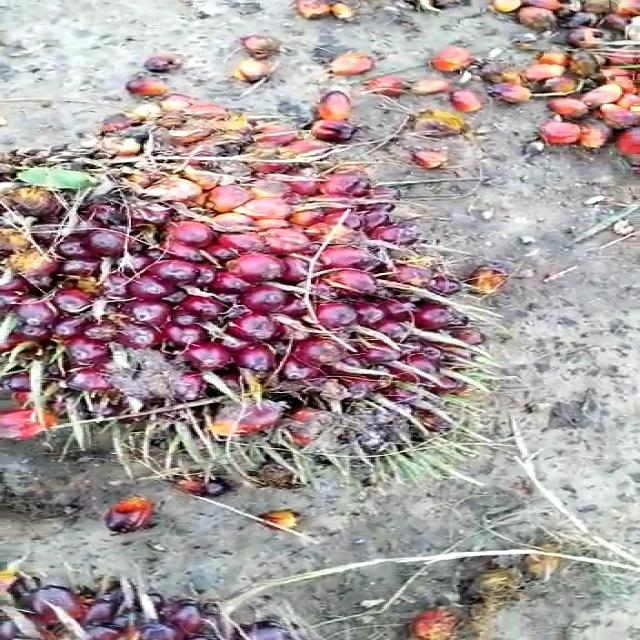palm oil: (0, 115, 549, 532)
